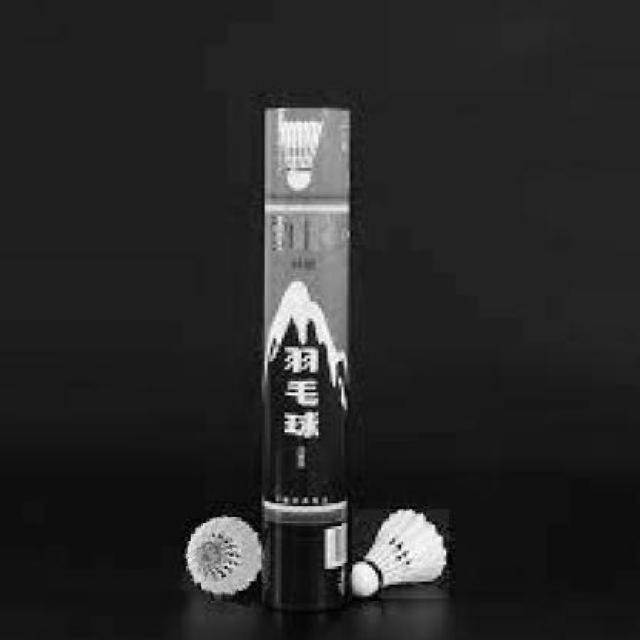Shuttlecock: (352, 509, 448, 597), (186, 516, 262, 595)
